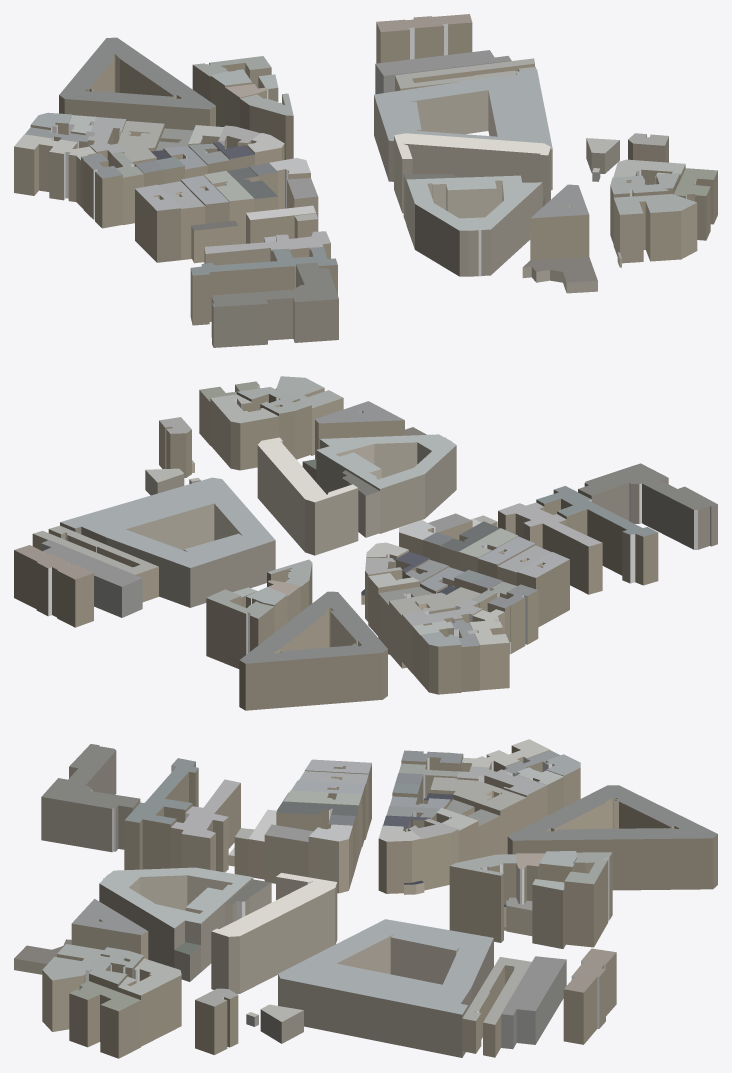
The picture shows the model from 3 angles, top to bottom: view 1: azimuth 30°, elevation 25°; view 2: azimuth 150°, elevation 25°; view 3: azimuth 270°, elevation 25°; orthographic projection. The views are drawn at different scales.
Parts seen in each view (by area): view 1: tuile; view 2: tuile; view 3: tuile.
Part boxes in pixels (box(x1,y1,x2,y2)): tuile: box(14, 14, 717, 347); tuile: box(14, 376, 717, 710); tuile: box(14, 739, 717, 1058).
Bounding box in the file's own units: 278 × 36.56 × 308.
